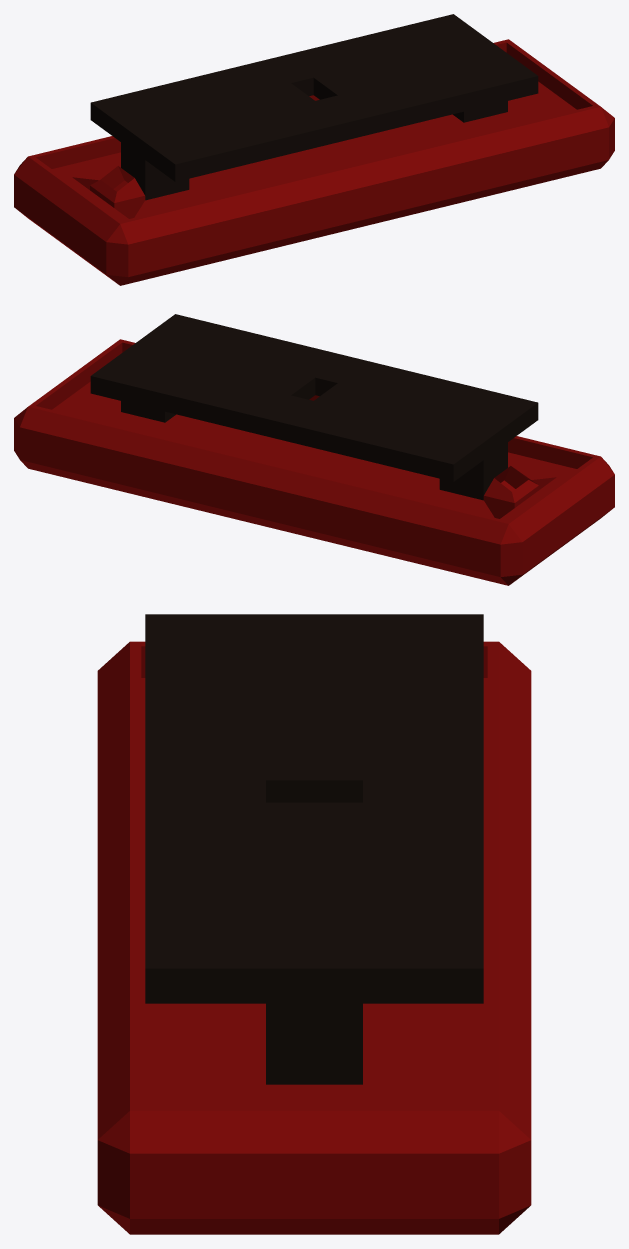
File: CarJack1.fbx
3 views of the same model, one above another, from view 1: azimuth 30°, elevation 25°; view 2: azimuth 150°, elevation 25°; view 3: azimuth 270°, elevation 25° (orthographic). The views are drawn at different scales.
Visible parts, largest first — view 1: Cube.002; view 2: Cube.002; view 3: Cube.002.
Part boxes in pixels (box(x1,y1,x2,y2)): Cube.002: box(14, 14, 614, 285); Cube.002: box(14, 314, 614, 585); Cube.002: box(97, 614, 531, 1234).
Bounding box in the file's own units: 542 × 106 × 200.
